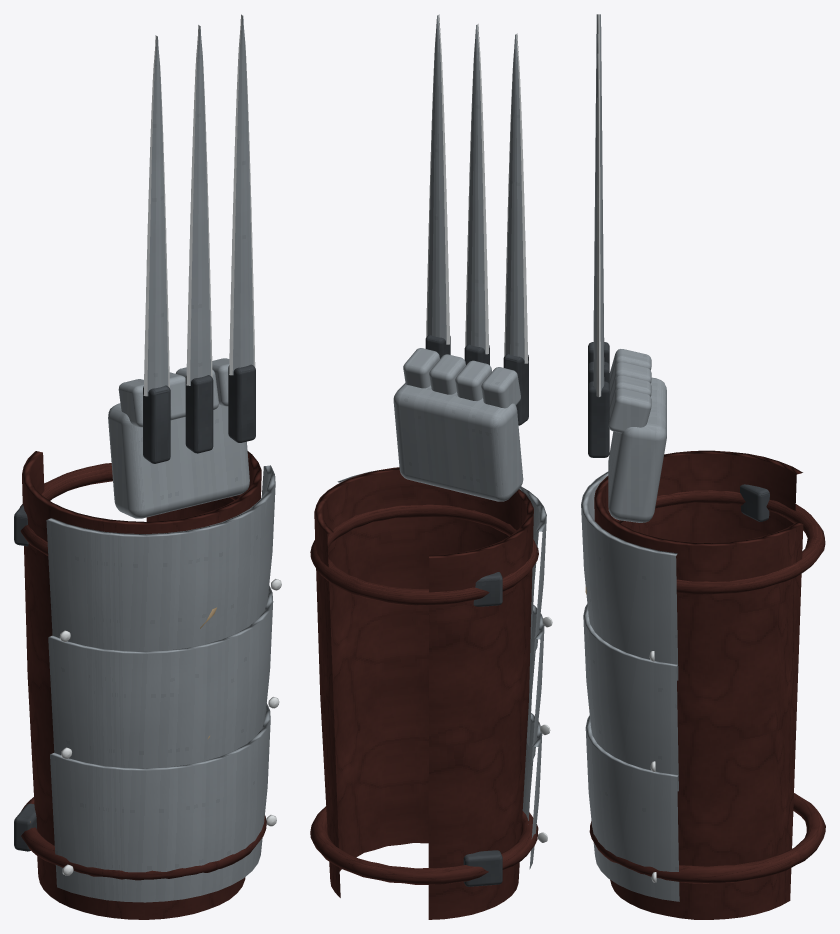
The model's file is talons.lod1.glb.
3 views of the same model, side by side, from view 1: azimuth 30°, elevation 25°; view 2: azimuth 150°, elevation 25°; view 3: azimuth 270°, elevation 25° (orthographic). The views are drawn at different scales.
Parts seen in each view (by area): view 1: steel / forged blade steel, leather / oiled leather wrap, darksteel / oil-blackened fittings, edge / honed bright bevel; view 2: leather / oiled leather wrap, steel / forged blade steel, edge / honed bright bevel, darksteel / oil-blackened fittings; view 3: leather / oiled leather wrap, steel / forged blade steel, darksteel / oil-blackened fittings, edge / honed bright bevel.
Boxes of the visible parts, x1,y1,x2,y2 form: steel / forged blade steel: (46, 14, 275, 902); leather / oiled leather wrap: (20, 451, 266, 919); darksteel / oil-blackened fittings: (14, 364, 255, 851); edge / honed bright bevel: (60, 15, 281, 875); leather / oiled leather wrap: (310, 467, 538, 919); steel / forged blade steel: (337, 14, 546, 869); edge / honed bright bevel: (426, 15, 552, 842); darksteel / oil-blackened fittings: (425, 335, 528, 886); leather / oiled leather wrap: (589, 450, 825, 919); steel / forged blade steel: (581, 14, 679, 901); darksteel / oil-blackened fittings: (588, 342, 769, 521); edge / honed bright bevel: (596, 14, 656, 882).
Size of the model in its own units: 0.1579 by 0.6001 by 0.1577.
Materials: 6 (4 with a texture image).
